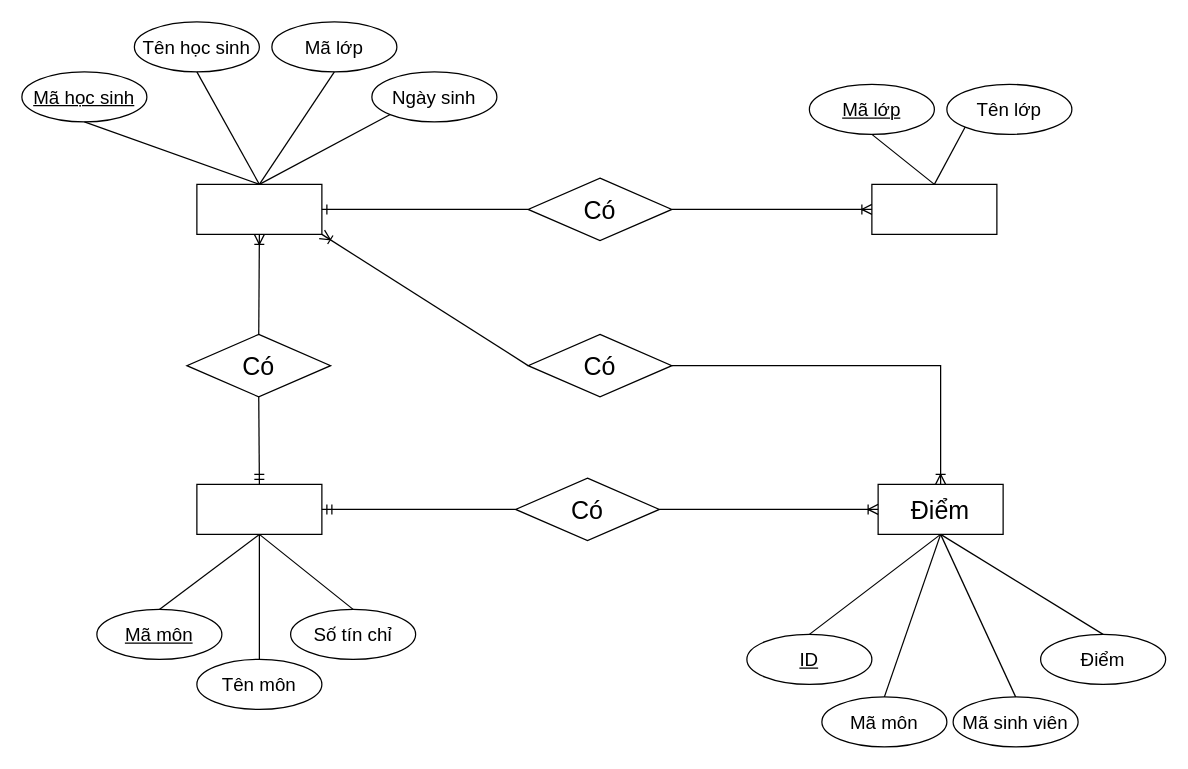
Image size: 1188x769. Some labels were removed from this diagram. The shapes that lost their labels are listed below. From the top down, each one's box as (x1, y1, x2, y2) in pixels, then its label:
(196, 183, 322, 234): Học sinh
(871, 183, 997, 234): Lớp học
(196, 483, 322, 534): Môn học
